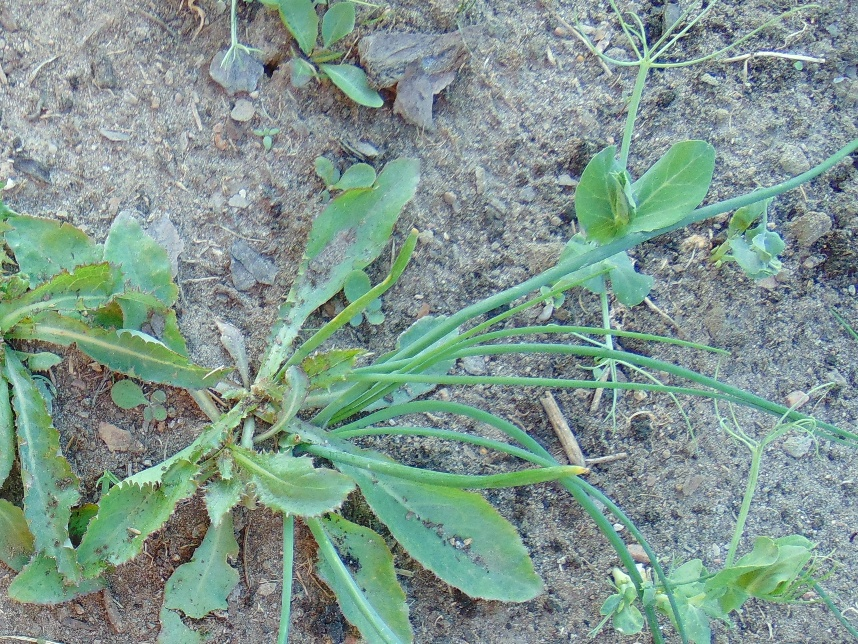crop: (550, 18, 727, 407), (598, 405, 820, 644), (220, 1, 262, 65)
weed: (82, 168, 544, 643), (1, 143, 199, 595), (276, 1, 383, 116)
